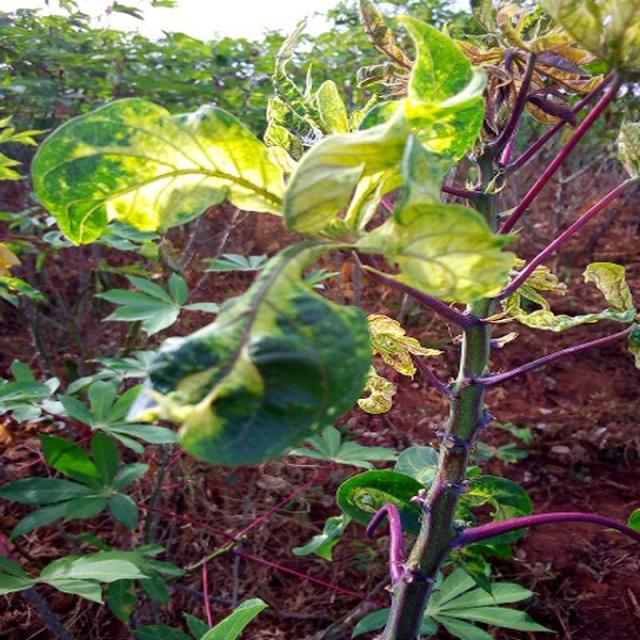cassava leaf: (128, 239, 374, 467), (282, 13, 487, 238), (29, 95, 290, 246)
